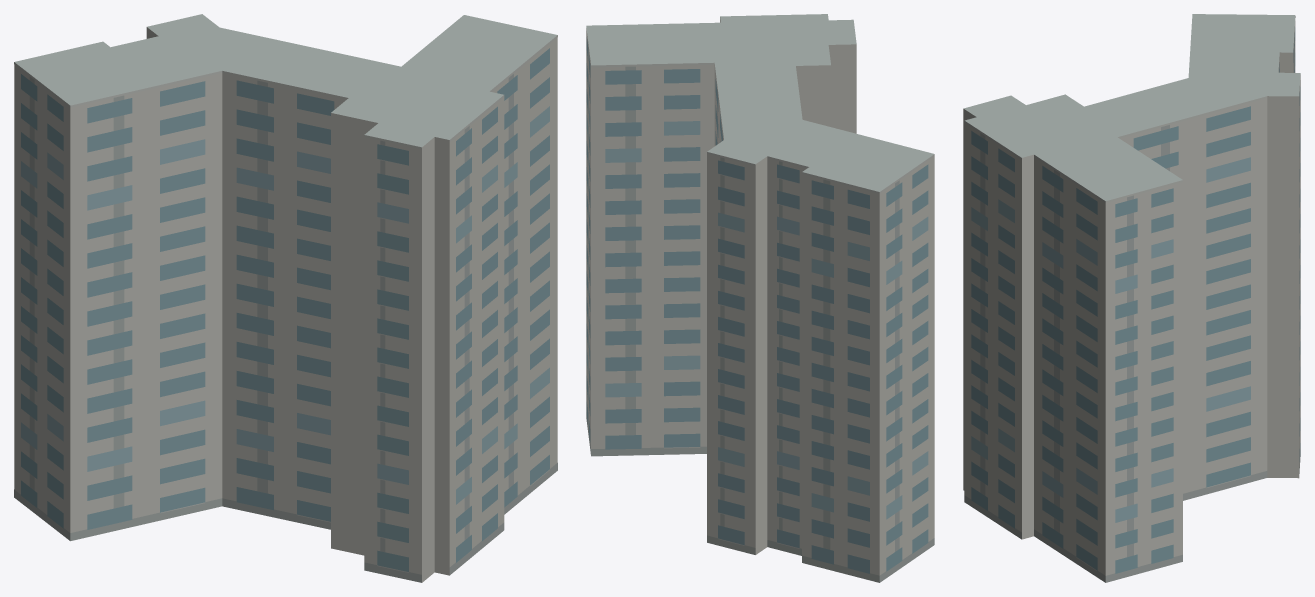
File: residential-cc227531-d679-42b9-8a2e-8a5c15b4779c.glb
The picture shows the model from 3 angles, left to right: view 1: azimuth 30°, elevation 25°; view 2: azimuth 150°, elevation 25°; view 3: azimuth 270°, elevation 25°; orthographic projection. The views are drawn at different scales.
Visible parts, largest first — view 1: residential-cc227531-d679-42b9-8a2e-8a5c15b4779c.tmp; view 2: residential-cc227531-d679-42b9-8a2e-8a5c15b4779c.tmp; view 3: residential-cc227531-d679-42b9-8a2e-8a5c15b4779c.tmp.
Part boxes in pixels (<box>): residential-cc227531-d679-42b9-8a2e-8a5c15b4779c.tmp: <box>14,14,557,582</box>; residential-cc227531-d679-42b9-8a2e-8a5c15b4779c.tmp: <box>586,14,934,582</box>; residential-cc227531-d679-42b9-8a2e-8a5c15b4779c.tmp: <box>963,14,1300,582</box>.
Size of the model in its own units: 50.51 by 48 by 38.44.
